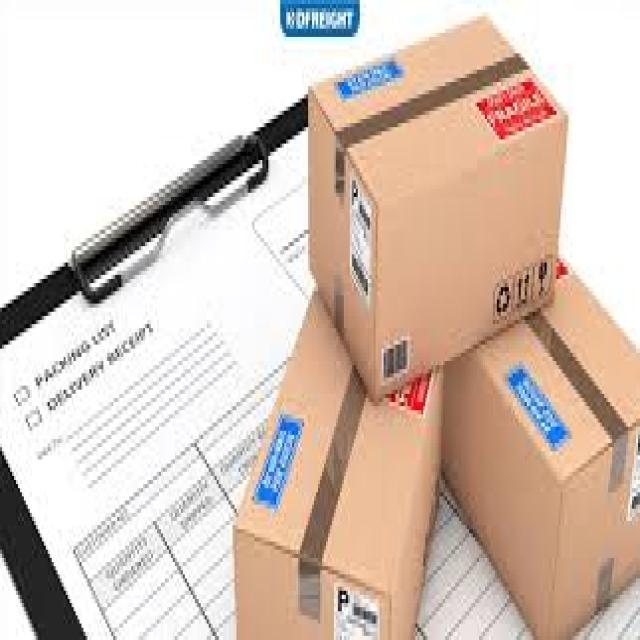box: (304, 13, 569, 406), (232, 284, 445, 640), (444, 251, 638, 640)
